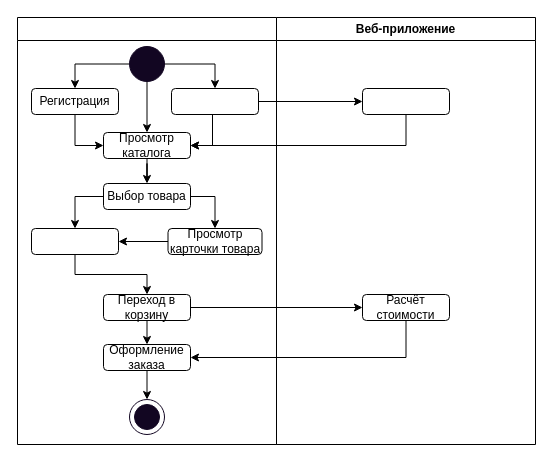
The diagram is 553 pixels wide and 462 high, and some of its shapes have lost their labels. The box of each missing label's shape, as (x1, y1, x2, y2) in pixels:
Авторизация: (170, 88, 258, 114)
Добавить в корзину: (30, 228, 118, 254)
Пользователь: (16, 16, 276, 444)
Проверка данных: (362, 88, 450, 114)
